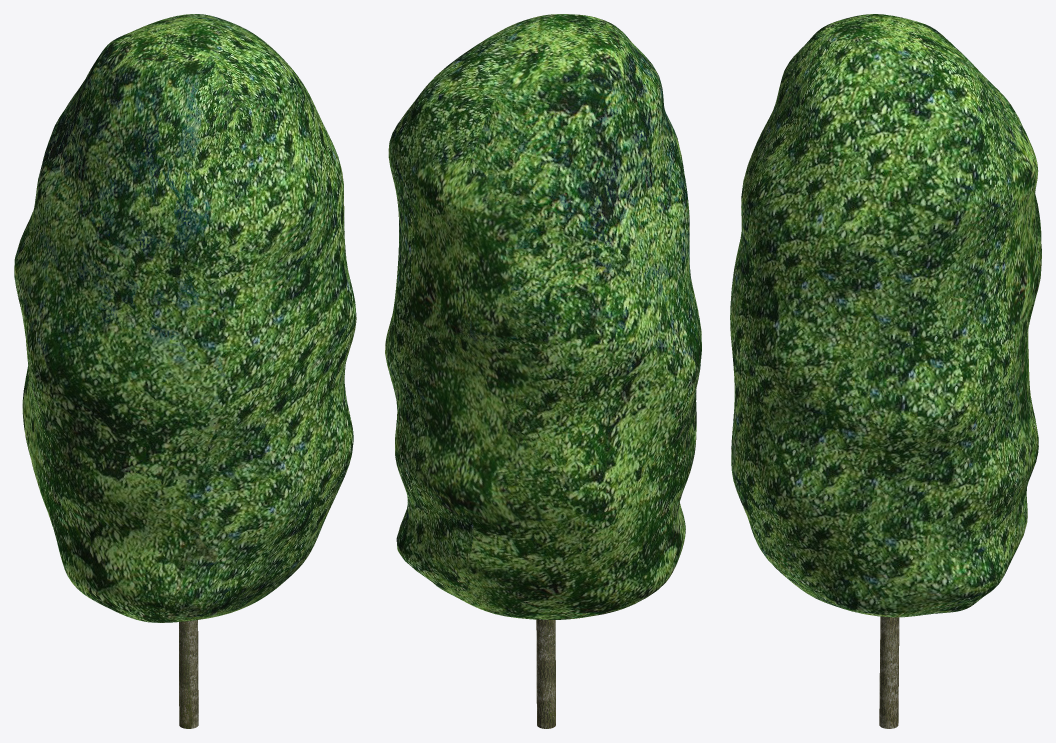
The model's file is Tree2.obj.
The picture shows the model from 3 angles, left to right: view 1: azimuth 30°, elevation 25°; view 2: azimuth 150°, elevation 25°; view 3: azimuth 270°, elevation 25°; orthographic projection.
Parts seen in each view (by area): view 1: 10459_White_Ash_Tree_v1_SG; view 2: 10459_White_Ash_Tree_v1_SG; view 3: 10459_White_Ash_Tree_v1_SG.
Part boxes in pixels (<box>): 10459_White_Ash_Tree_v1_SG: <box>14,14,356,728</box>; 10459_White_Ash_Tree_v1_SG: <box>385,14,701,728</box>; 10459_White_Ash_Tree_v1_SG: <box>730,14,1041,728</box>.
Size of the model in its own units: 252 by 593 by 242.
1 material, 1 textured.
